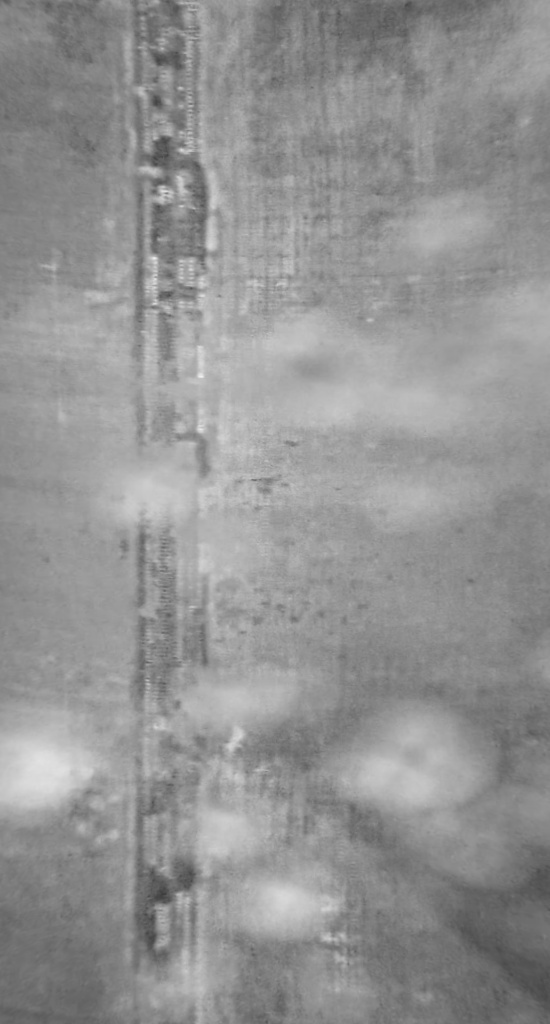splice: (130, 4, 227, 1024)
